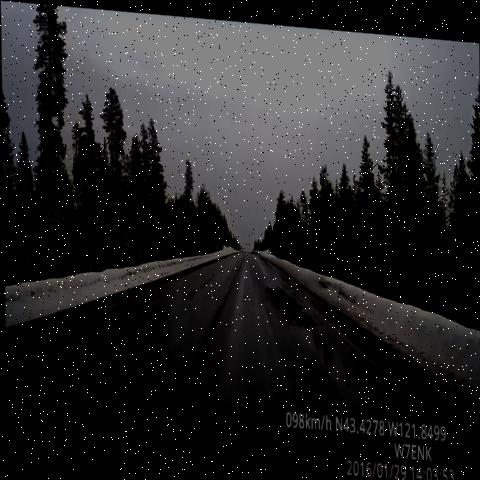pothole: (264, 270, 316, 338)
